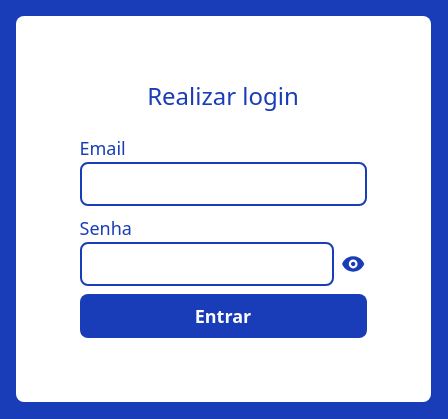
Test: Login tests › should change login button text
What coordinates should you click on to do the following:
click the submit button
I would click on:
 (223, 316)
Its box is [80,294,366,338].
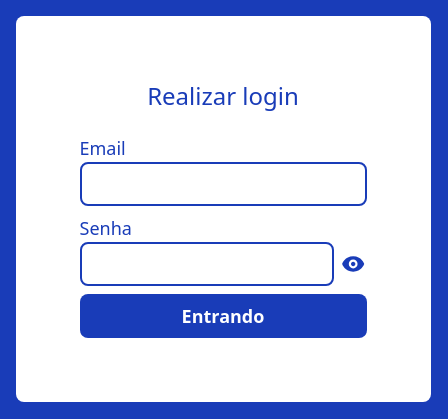
Check: the submit button reads "Entrando", box [80,294,366,338]
